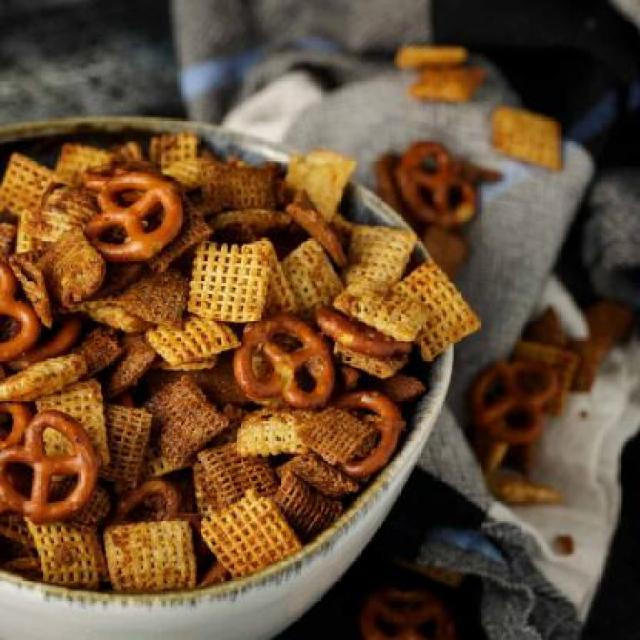Salatini packaged: (5, 117, 458, 600)
